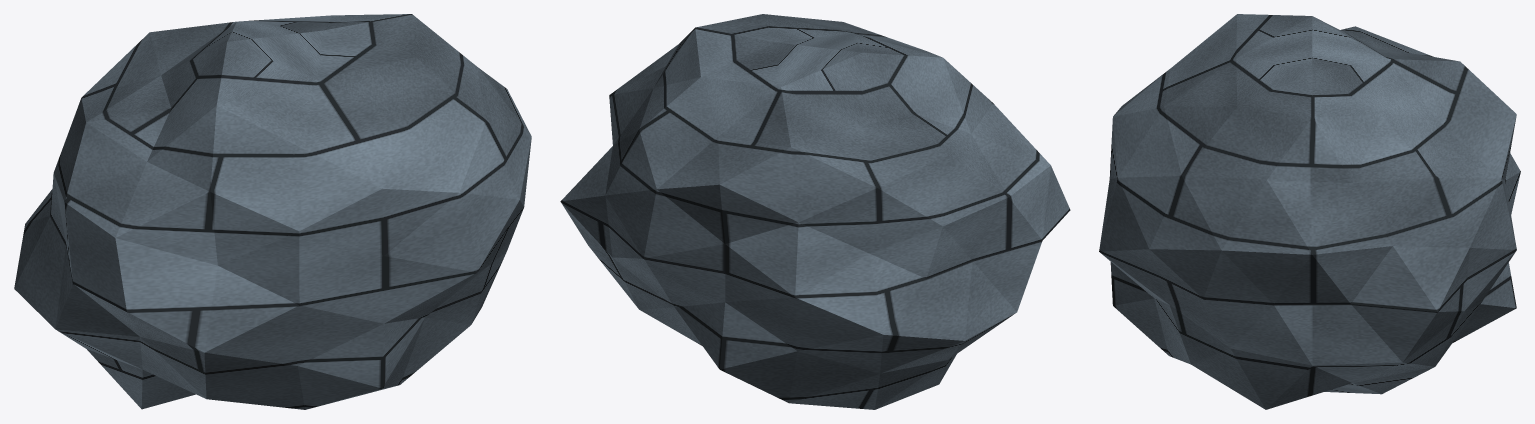
The model's file is moor-rock-3.glb.
3 renders of one model, left to right at view 1: azimuth 30°, elevation 25°; view 2: azimuth 150°, elevation 25°; view 3: azimuth 270°, elevation 25°, orthographic. The views are drawn at different scales.
Visible parts, largest first — view 1: moor-rock-3; view 2: moor-rock-3; view 3: moor-rock-3.
Boxes of the visible parts, x1,y1,x2,y2 form: moor-rock-3: (14, 14, 531, 409); moor-rock-3: (560, 14, 1070, 409); moor-rock-3: (1099, 14, 1520, 409).
Bounding box in the file's own units: 2 × 1.46 × 1.68.
1 material, 1 textured.
